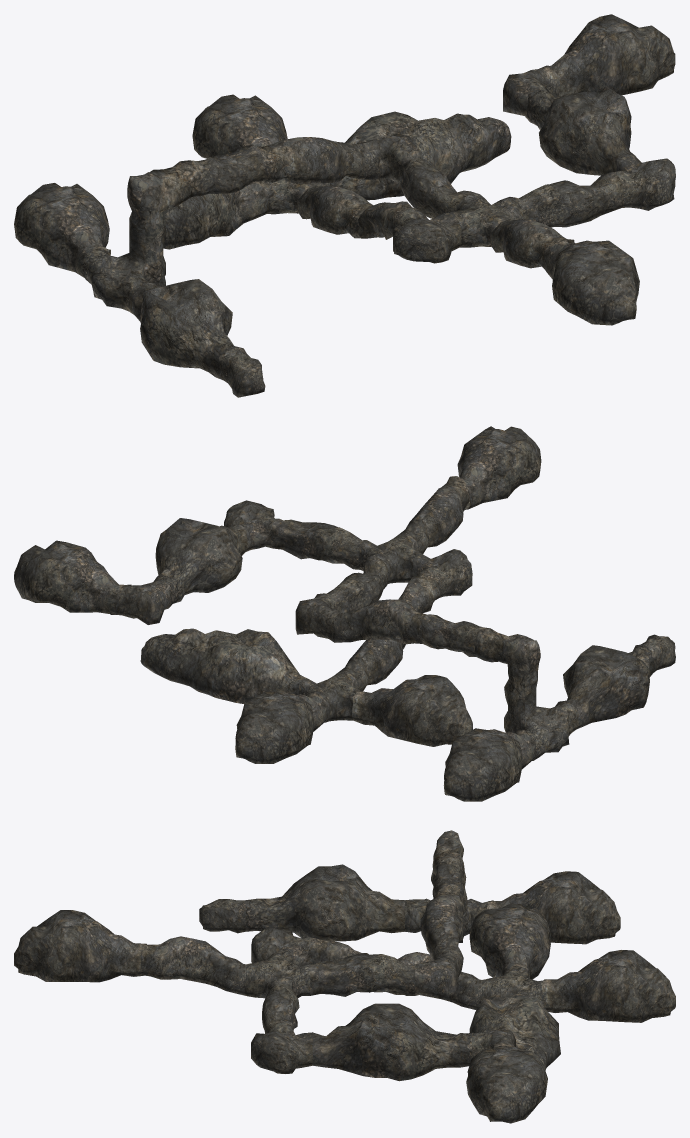
The model's file is custom_cave_1.glb.
3 renders of one model, top to bottom at view 1: azimuth 30°, elevation 25°; view 2: azimuth 150°, elevation 25°; view 3: azimuth 270°, elevation 25°, orthographic. The views are drawn at different scales.
Visible parts, largest first — view 1: Object021_mine_0, Shape024_mine_0.001, Shape013, Shape012, Shape014, mine_13_mine_0.002, Shape024_mine_0.003, Shape024_mine_0.002, Shape018, Object020_mine_0, Object012_mine_0, Object017_mine_0 (+11 smaller); view 2: Shape014, Shape018, Object021_mine_0, Shape012, Shape024_mine_0.001, Shape013, Shape024_mine_0.002, Shape024_mine_0.003, mine_13_mine_0.002, Object020_mine_0, Object012_mine_0, Object015_mine_0 (+11 smaller); view 3: Shape012, Shape013, Shape024_mine_0.002, mine_13_mine_0.002, Shape024_mine_0.003, Shape024_mine_0.001, Shape018, Object015_mine_0, Shape014, Object016_mine_0, Object023_mine_0, Object020_mine_0 (+11 smaller).
Part boxes in pixels (box(x1,y1,x2,y2)): Object021_mine_0: box(82, 160, 202, 315); Shape024_mine_0.001: box(540, 14, 675, 97); Shape013: box(131, 279, 242, 379); Shape012: box(526, 89, 636, 175); Shape014: box(330, 111, 511, 200); mine_13_mine_0.002: box(543, 239, 639, 325); Shape024_mine_0.003: box(14, 183, 110, 277); Shape024_mine_0.002: box(192, 94, 287, 158); Shape018: box(163, 181, 268, 249); Object020_mine_0: box(256, 137, 365, 183); Object012_mine_0: box(515, 172, 623, 227); Object017_mine_0: box(393, 208, 461, 263); Shape014: box(140, 628, 305, 704); Shape018: box(352, 675, 472, 746); Object021_mine_0: box(475, 627, 578, 760); Shape012: box(153, 518, 247, 608); Shape024_mine_0.001: box(14, 540, 131, 615); Shape013: box(563, 644, 655, 729); Shape024_mine_0.002: box(235, 690, 327, 763); Shape024_mine_0.003: box(443, 728, 536, 801); mine_13_mine_0.002: box(457, 426, 541, 509); Object020_mine_0: box(333, 599, 427, 644); Object012_mine_0: box(271, 518, 366, 569); Object015_mine_0: box(399, 476, 469, 554); Shape012: box(312, 1003, 471, 1081); Shape013: box(245, 864, 404, 941); Shape024_mine_0.002: box(542, 950, 675, 1022); mine_13_mine_0.002: box(14, 910, 146, 982); Shape024_mine_0.003: box(487, 871, 620, 944); Shape024_mine_0.001: box(466, 1042, 547, 1123); Shape018: box(469, 904, 550, 979); Object015_mine_0: box(140, 936, 245, 995); Shape014: box(469, 993, 560, 1070); Object016_mine_0: box(310, 954, 414, 996); Object023_mine_0: box(251, 1022, 312, 1073); Object020_mine_0: box(420, 884, 464, 970).
Bounding box in the file's own units: 90.64 × 19.83 × 92.16.
5 materials, 5 textured.
